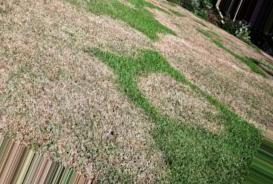patch: (6, 19, 86, 125), (93, 84, 131, 173), (182, 47, 236, 87), (155, 88, 207, 125), (97, 26, 135, 47), (229, 92, 258, 110)
